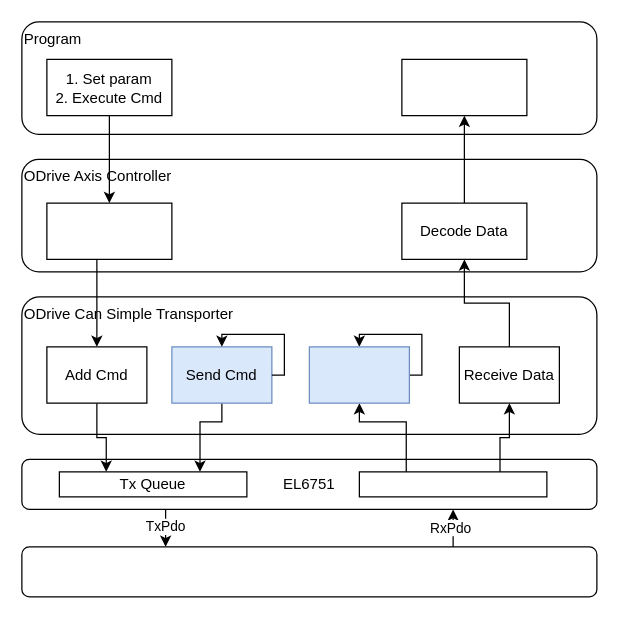
Some shapes in this 619 by 619 pixel diagram are drawn without their labels. Each missing label, with the centre of its shape:
"Build Cmd" belongs at pixel 109 230.
"CAN Bus" belongs at pixel 309 571.
"Read data" belongs at pixel 464 87.
"Rx Queue" belongs at pixel 452 484.
"Update Data" belongs at pixel 358 374.
